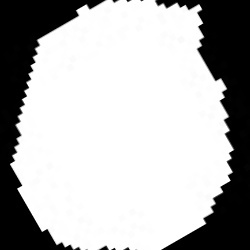spot: (11, 2, 236, 249)
